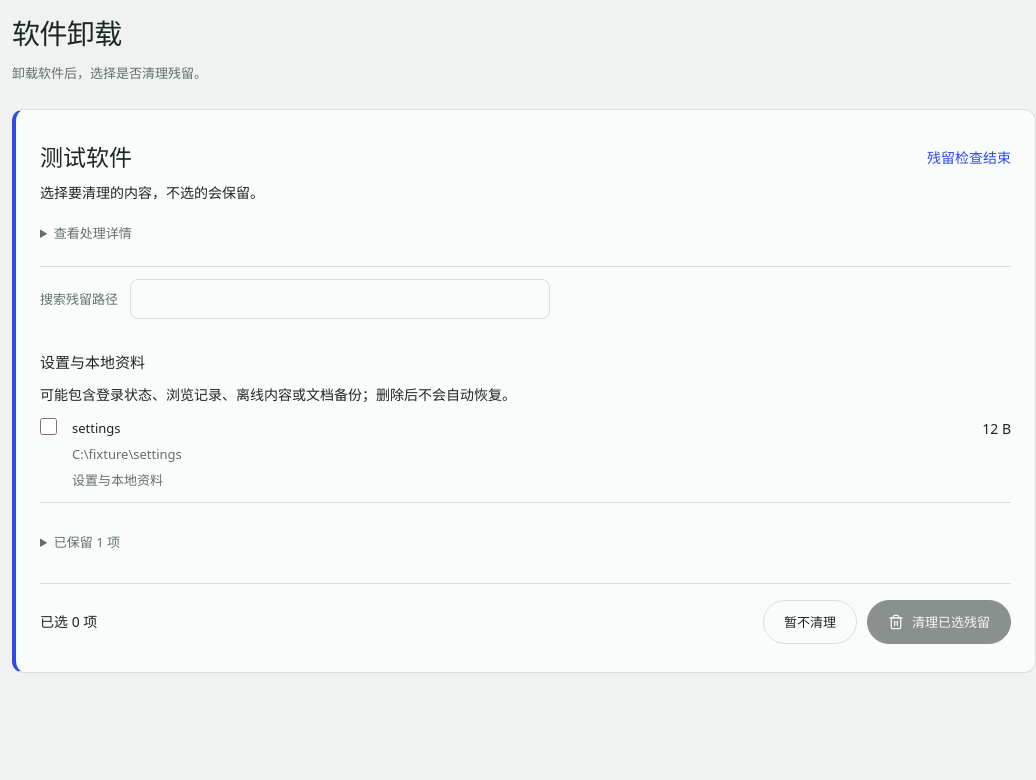
Scenario: software removal › keeps personal data unselected and readonly residues disabled
Expected: the checkbox labelled "settings C:\\fixture\\settings 设置与本地资料 12 B" is not checked, [40,418,57,435]
Click the heading "已保留 1 项": (87, 542) [54,533,120,551]
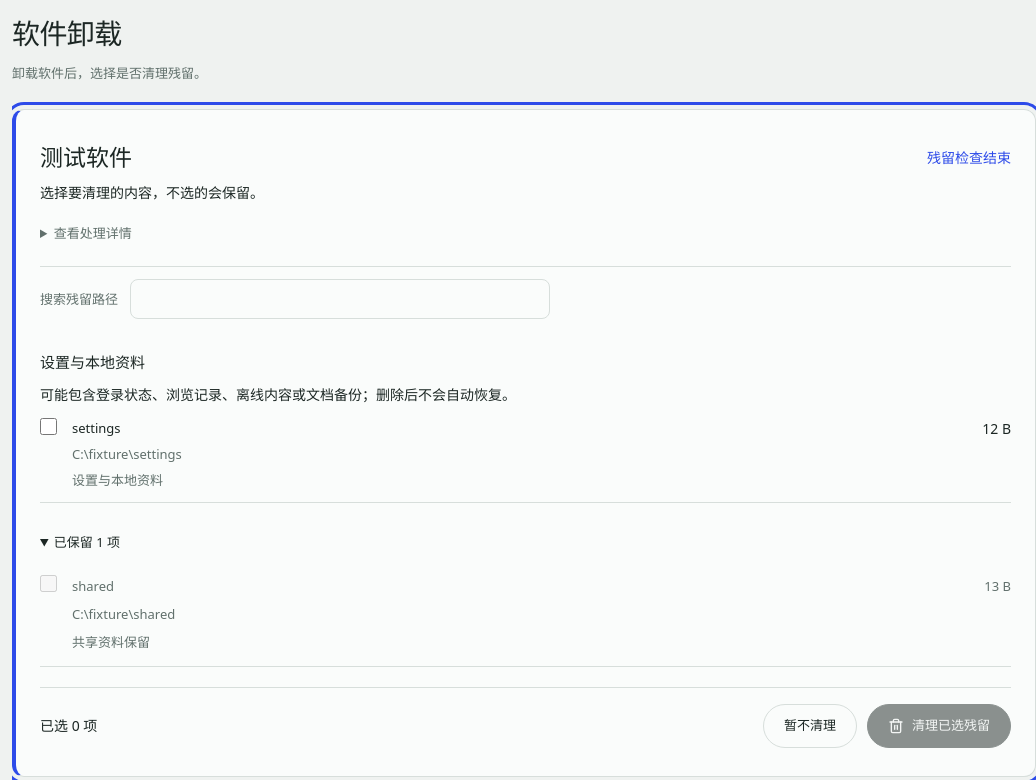
Expected: the button "清理已选残留" is disabled, [867,704,1011,748]
Expected: the checkbox labelled "shared C:\\fixture\\shared 共享资料保留 13 B" is disabled, [40,575,57,592]
Click the checkbox labelled "settings C:\\fixture\\settings 设置与本地资料 12 B": (48, 426) [40,418,57,435]
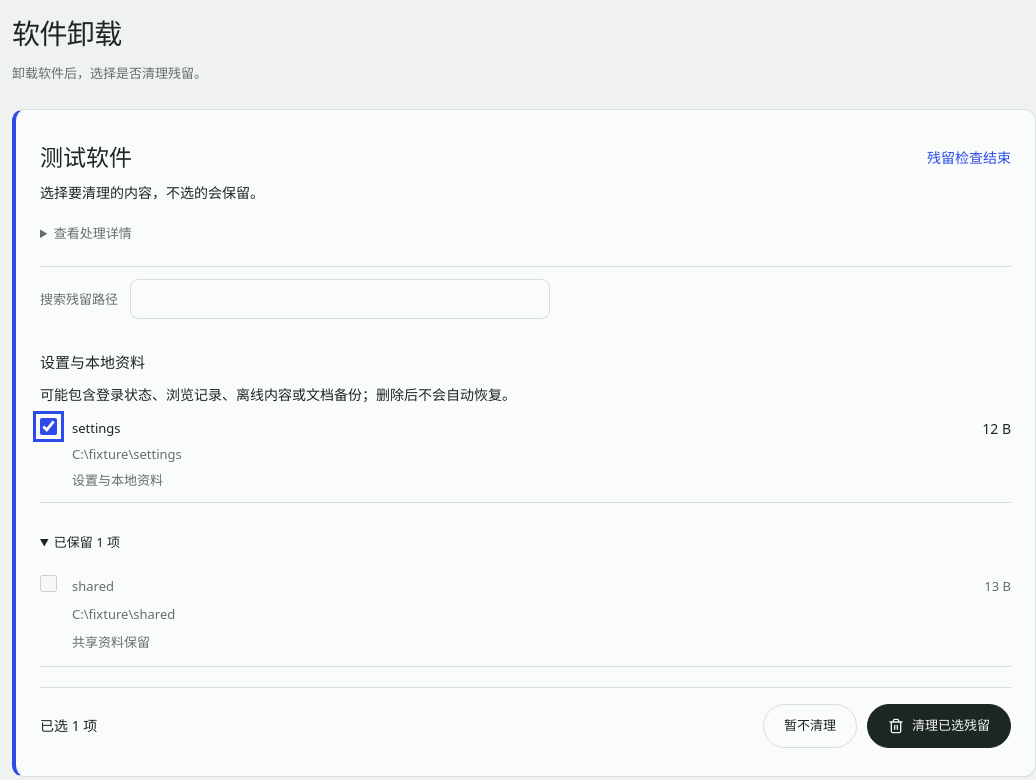
Expected: the button "清理已选残留" is enabled, [867,704,1011,748]
